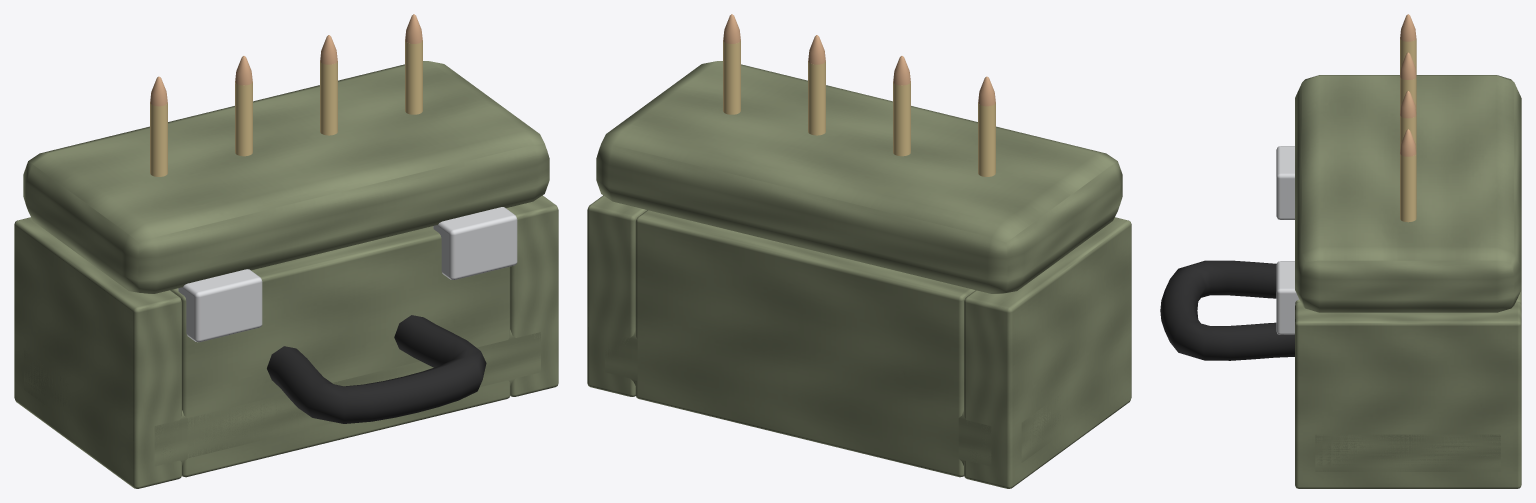
Rendered from fps-weapon-set-and-firing-range-lmg-belt-box-8f48722a__19479.glb.
3 views of the same model, side by side, from view 1: azimuth 30°, elevation 25°; view 2: azimuth 150°, elevation 25°; view 3: azimuth 270°, elevation 25° (orthographic). The views are drawn at different scales.
Visible parts, largest first — view 1: lmg-belt-box, lid; view 2: lmg-belt-box, lid; view 3: lmg-belt-box, lid.
Boxes of the visible parts, x1=… form: lmg-belt-box: x1=14, y1=14, x2=558, y2=488; lid: x1=23, y1=61, x2=549, y2=294; lmg-belt-box: x1=587, y1=14, x2=1131, y2=488; lid: x1=596, y1=61, x2=1122, y2=294; lmg-belt-box: x1=1160, y1=14, x2=1521, y2=488; lid: x1=1295, y1=75, x2=1521, y2=312.
Bounding box in the file's own units: 0.22 × 0.173 × 0.1753.
Materials: 5 (1 with a texture image).
